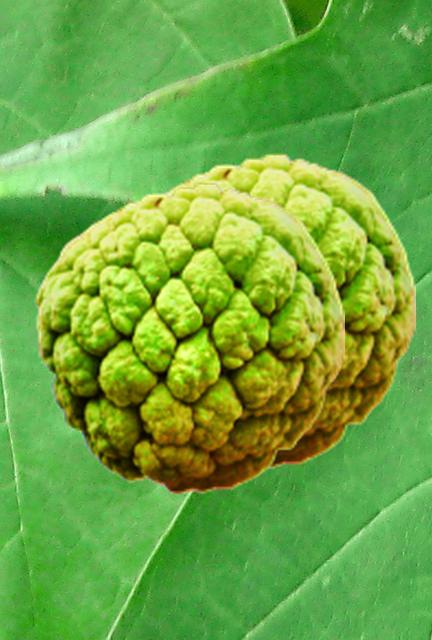atis: (34, 181, 343, 494), (157, 152, 414, 469)
